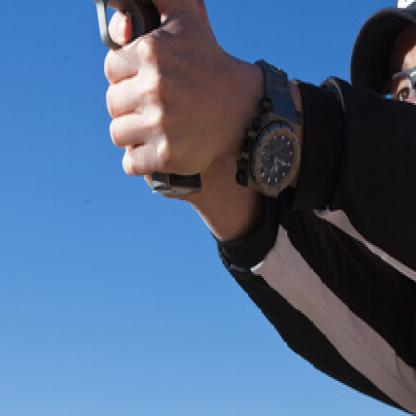gun: (0, 0, 211, 210)
